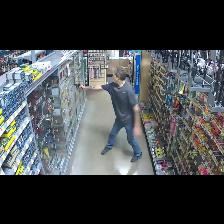person: (80, 66, 142, 162)
